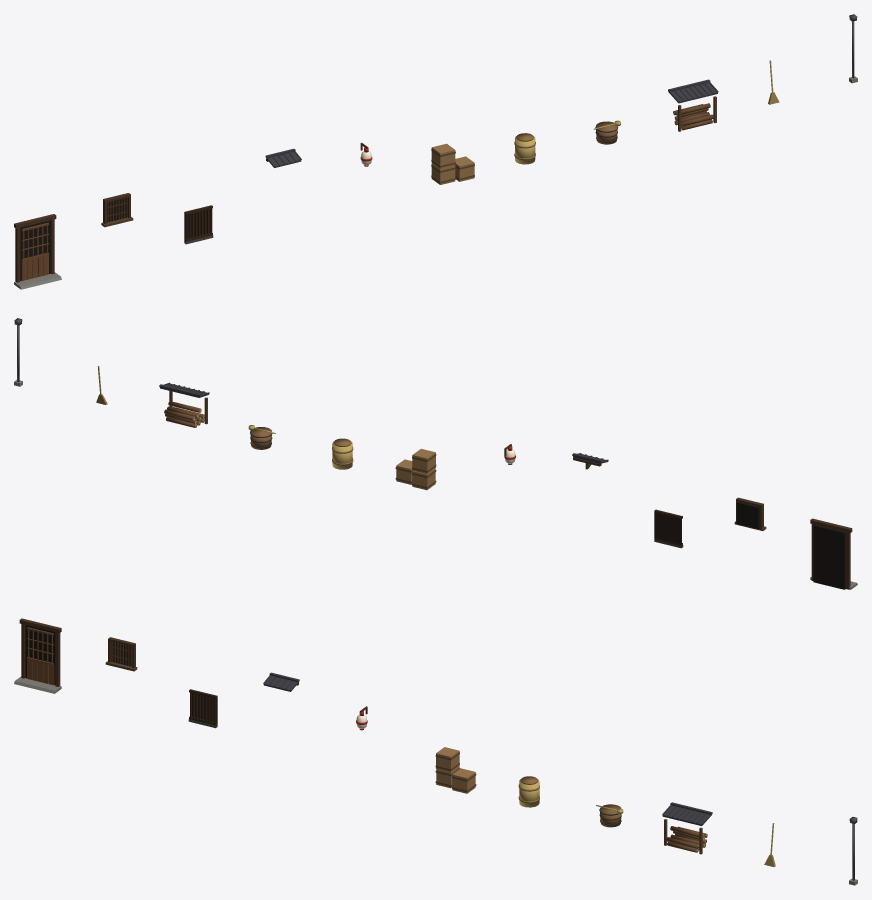
File: japan_kit20_shop_backs2.fbx
The picture shows the model from 3 angles, top to bottom: view 1: azimuth 30°, elevation 25°; view 2: azimuth 150°, elevation 25°; view 3: azimuth 330°, elevation 25°; orthographic projection.
Visible parts, largest first — view 1: Crate_Wood, Door_Wood, Door_Reveal, Door_Frame, Lattice_Wood, Shed_Tile, Wood_Log; view 2: Door_Reveal, Crate_Wood, Door_Frame, Wood_Log, Lattice_Back, Win_Reveal; view 3: Crate_Wood, Door_Wood, Door_Reveal, Door_Frame, Lattice_Wood, Shed_Tile, Wood_Log.
Boxes of the visible parts, x1,y1,x2,y2 form: Crate_Wood: [431, 143, 474, 184]; Door_Wood: [21, 222, 48, 280]; Door_Reveal: [20, 220, 50, 280]; Door_Frame: [14, 214, 56, 282]; Lattice_Wood: [184, 205, 212, 241]; Shed_Tile: [668, 79, 718, 103]; Wood_Log: [673, 103, 713, 130]; Door_Reveal: [813, 524, 845, 589]; Crate_Wood: [396, 448, 435, 490]; Door_Frame: [810, 518, 852, 589]; Wood_Log: [164, 401, 204, 427]; Lattice_Back: [654, 512, 681, 543]; Win_Reveal: [736, 502, 759, 528]; Crate_Wood: [436, 747, 475, 793]; Door_Wood: [27, 627, 54, 685]; Door_Reveal: [25, 625, 55, 684]; Door_Frame: [19, 618, 61, 686]; Lattice_Wood: [189, 689, 217, 725]; Shed_Tile: [662, 802, 712, 825]; Wood_Log: [666, 826, 706, 852].
Bounding box in the file's own units: 123 × 9.54 × 3.97.
